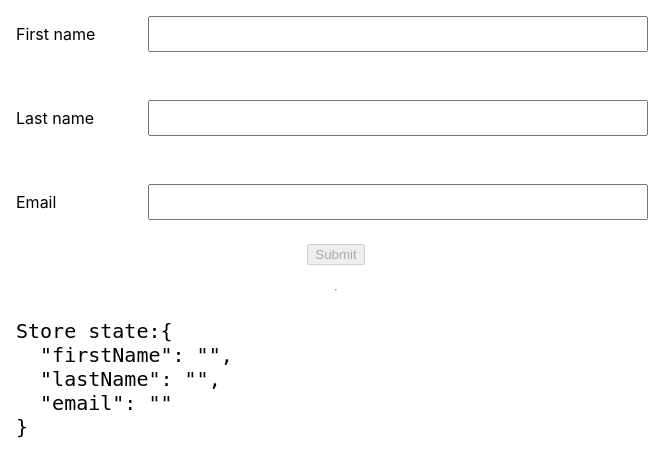
it: App › updates store state after form submission
Type "Ivan" into the field labelled "First name" at (398, 34), box [148,16,648,52]
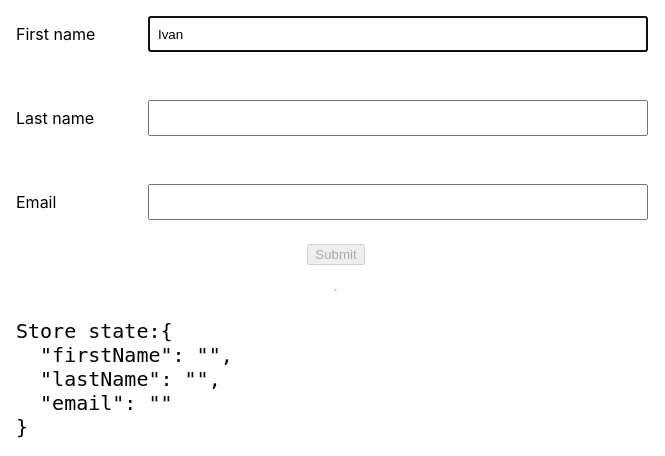
Type "Holovin" into the field labelled "Last name" at (398, 118), box [148,100,648,136]
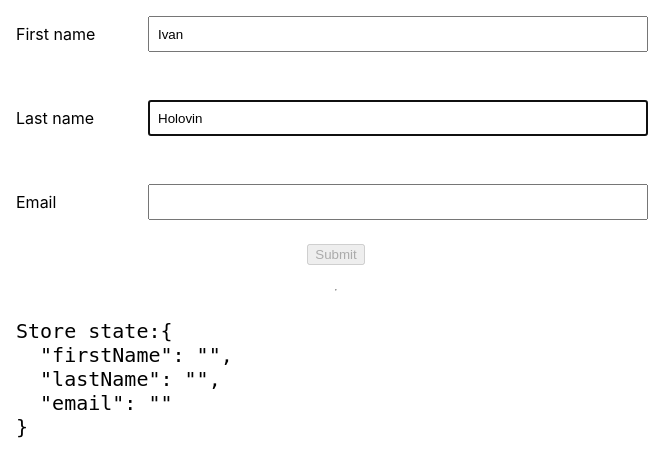
Type "ivan@holovin.com" into the field labelled "Email" at (398, 202), box [148,184,648,220]
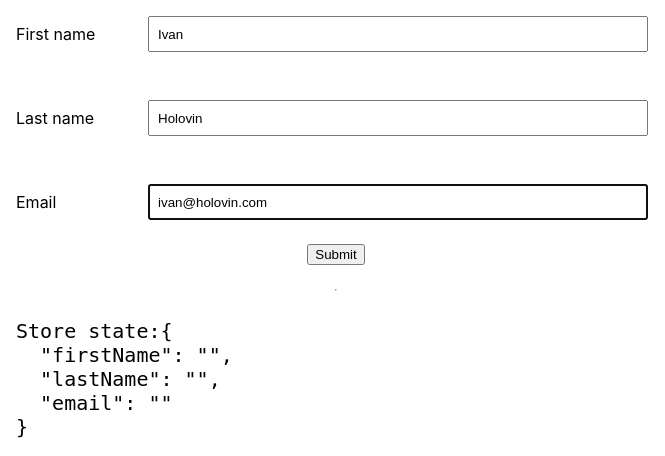
Click the button "Submit" at (336, 254), box [307,244,365,265]
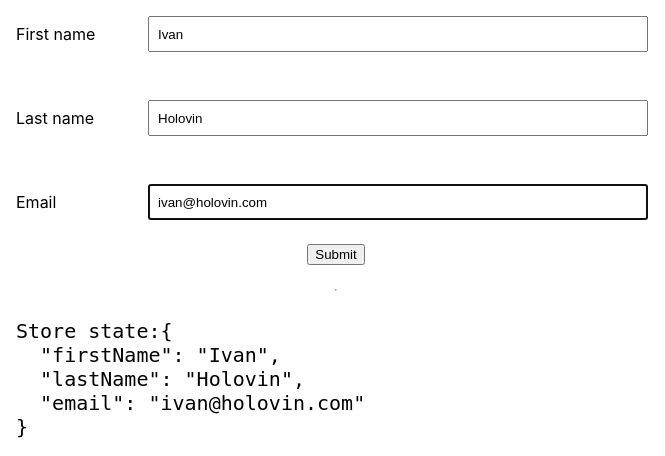
Check: the text "\"email\": \"ivan@holovin.com\"" is shown, box [16,319,365,439]
